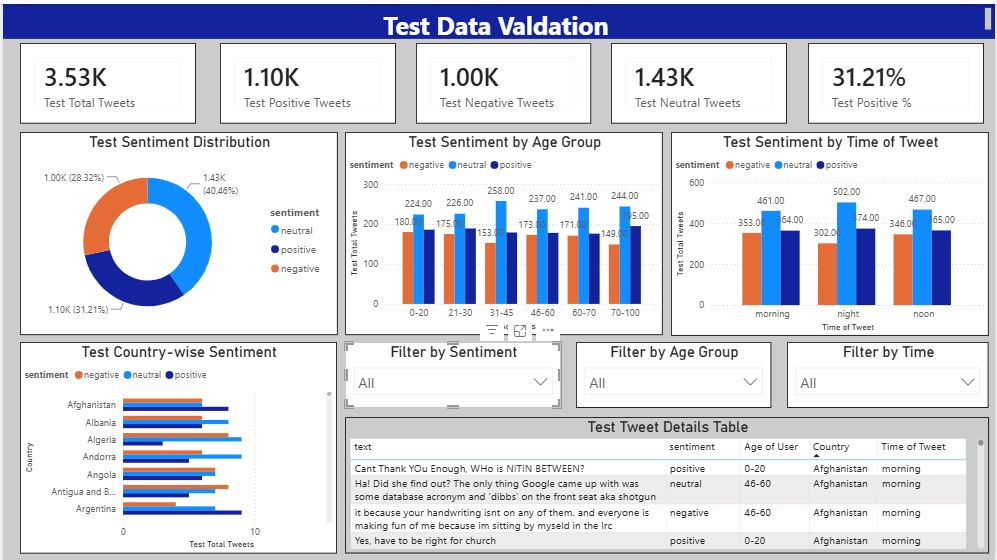

What the dashboard file says about the page in this screenshot:
{"tool":"powerbi","page":{"name":"Test Data Valdation","canvas":[1280,720],"ordinal":1},"visuals":[{"type":"cardVisual","fields":{"Data":["Test.Test Total Tweets"]},"box":[21.7,50.6,227,104.1],"z":0},{"type":"cardVisual","fields":{"Data":["Test.Test Positive Tweets"]},"box":[280.5,50.6,227,104.1],"z":1},{"type":"cardVisual","fields":{"Data":["Test.Test Negative Tweets"]},"box":[533.5,50.6,225.5,104.1],"z":2},{"type":"cardVisual","fields":{"Data":["Test.Test Neutral Tweets"]},"box":[785.1,50.6,227,104.1],"z":3},{"type":"cardVisual","fields":{"Data":["Test.Test Positive %"]},"box":[1038.1,50.6,227,104.1],"z":4},{"type":"donutChart","title":"Test Sentiment Distribution","fields":{"Category":["Test.sentiment"],"Y":["Test.Test Total Tweets"]},"box":[21.4,165.4,410.3,261.8],"z":5},{"type":"clusteredColumnChart","title":"Test Sentiment by Age Group","fields":{"Category":["Test.Age of User"],"Y":["Test.Test Total Tweets"],"Series":["Test.sentiment"]},"box":[441,165.4,410.3,261.8],"z":6},{"type":"clusteredColumnChart","title":"Test Sentiment by Time of Tweet","fields":{"Category":["Test.Time of Tweet"],"Y":["Test.Test Total Tweets"],"Series":["Test.sentiment"]},"box":[862,165.4,410.3,263.3],"z":7},{"type":"clusteredBarChart","title":"Test Country-wise Sentiment","fields":{"Category":["Test.Country"],"Y":["Test.Test Total Tweets"],"Series":["Test.sentiment"]},"box":[21.4,436.4,408.8,272.5],"z":8},{"type":"slicer","title":"Filter by Sentiment","fields":{"Values":["Test.sentiment"]},"box":[441,436.6,279,85.3],"z":9},{"type":"slicer","title":"Filter by Age Group","fields":{"Values":["Test.Age of User"]},"box":[738.8,436.6,251.6,85.3],"z":10},{"type":"slicer","title":"Filter by Time ","fields":{"Values":["Test.Time of Tweet"]},"box":[1012,436.6,260.2,85.3],"z":11},{"type":"tableEx","title":"Test Tweet Details Table","fields":{"Values":["Test.text","Test.sentiment","Test.Age of User","Test.Country","Test.Time of Tweet"]},"box":[441,533.5,831.3,176.4],"z":12},{"type":"textbox","box":[0,0,1279.5,44.8],"z":13}]}

Visuals, with their boxes in screenshot pixels (x1, y1, x2, y2), scaled from the page's 1280x720 canvas onto the 997x560 screenshot:
cardVisual - Test.Test Total Tweets: Rect(17, 39, 194, 120)
cardVisual - Test.Test Positive Tweets: Rect(218, 39, 395, 120)
cardVisual - Test.Test Negative Tweets: Rect(416, 39, 591, 120)
cardVisual - Test.Test Neutral Tweets: Rect(612, 39, 788, 120)
cardVisual - Test.Test Positive %: Rect(809, 39, 985, 120)
"Test Sentiment Distribution" donutChart: Rect(17, 129, 336, 332)
"Test Sentiment by Age Group" clusteredColumnChart: Rect(343, 129, 663, 332)
"Test Sentiment by Time of Tweet" clusteredColumnChart: Rect(671, 129, 991, 333)
"Test Country-wise Sentiment" clusteredBarChart: Rect(17, 339, 335, 551)
"Filter by Sentiment" slicer: Rect(343, 340, 561, 406)
"Filter by Age Group" slicer: Rect(575, 340, 771, 406)
"Filter by Time " slicer: Rect(788, 340, 991, 406)
"Test Tweet Details Table" tableEx: Rect(343, 415, 991, 552)
textbox: Rect(0, 0, 996, 35)
